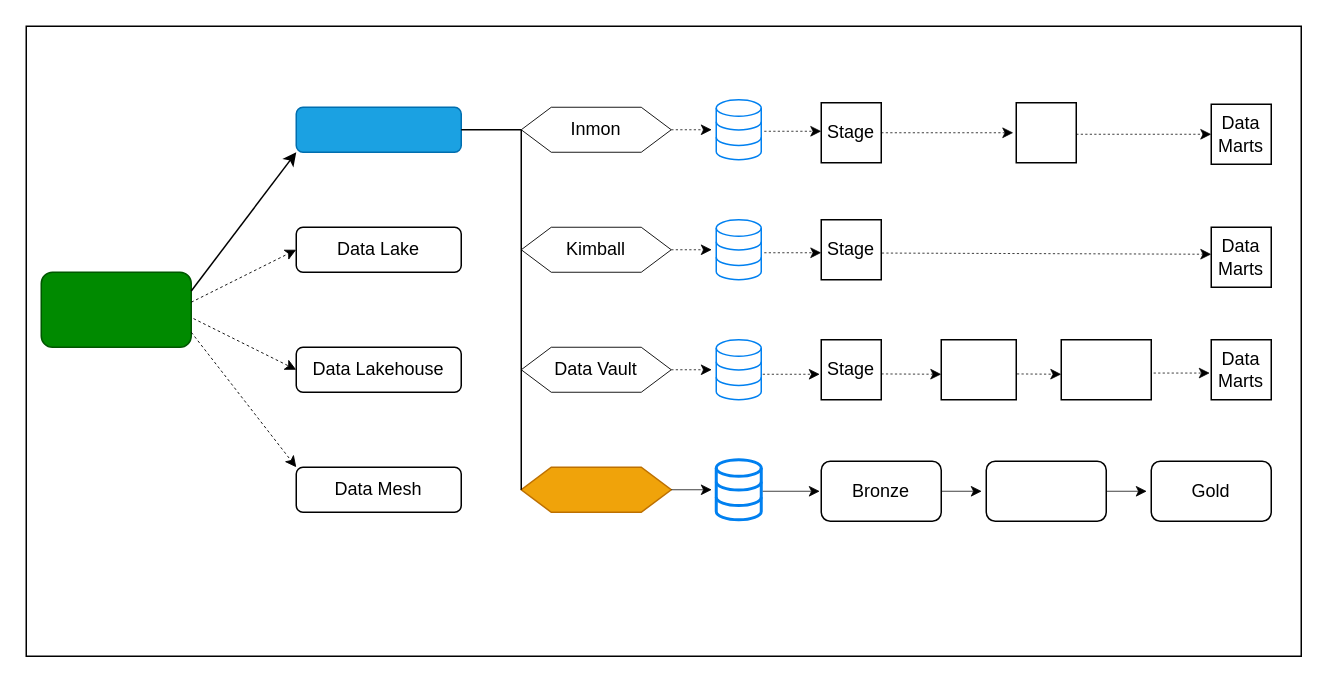
Some shapes in this 1328 by 683 pixel diagram are drawn without their labels. The centre of each missing label's shape, as x and y in pixels:
Business Vault: (1105,369)
Data Architecture: (115,309)
Data Warehouse: (378,129)
EDW: (1045,132)
Medallion: (595,489)
Raw Vault: (978,369)
Silver: (1045,490)
